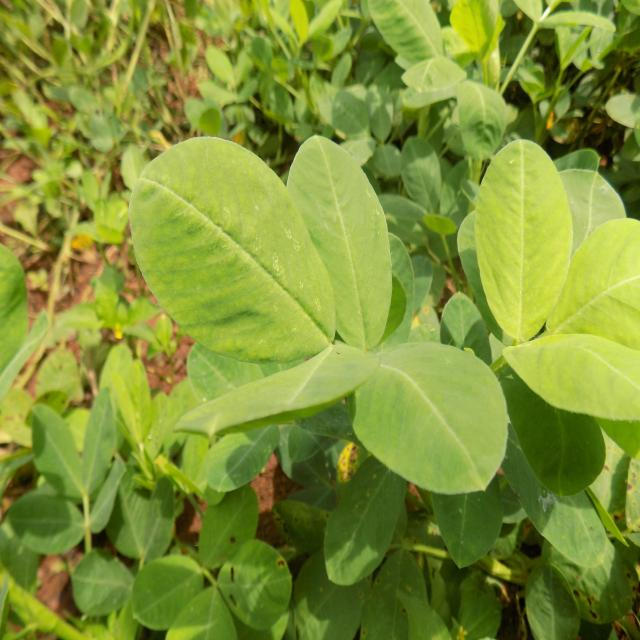Ground nut_healthy: (127, 140, 334, 358), (354, 338, 508, 495), (288, 134, 396, 346), (472, 130, 574, 344), (504, 361, 606, 494), (323, 452, 402, 582), (30, 400, 90, 500), (128, 558, 206, 624), (199, 486, 258, 568), (400, 131, 448, 214)
